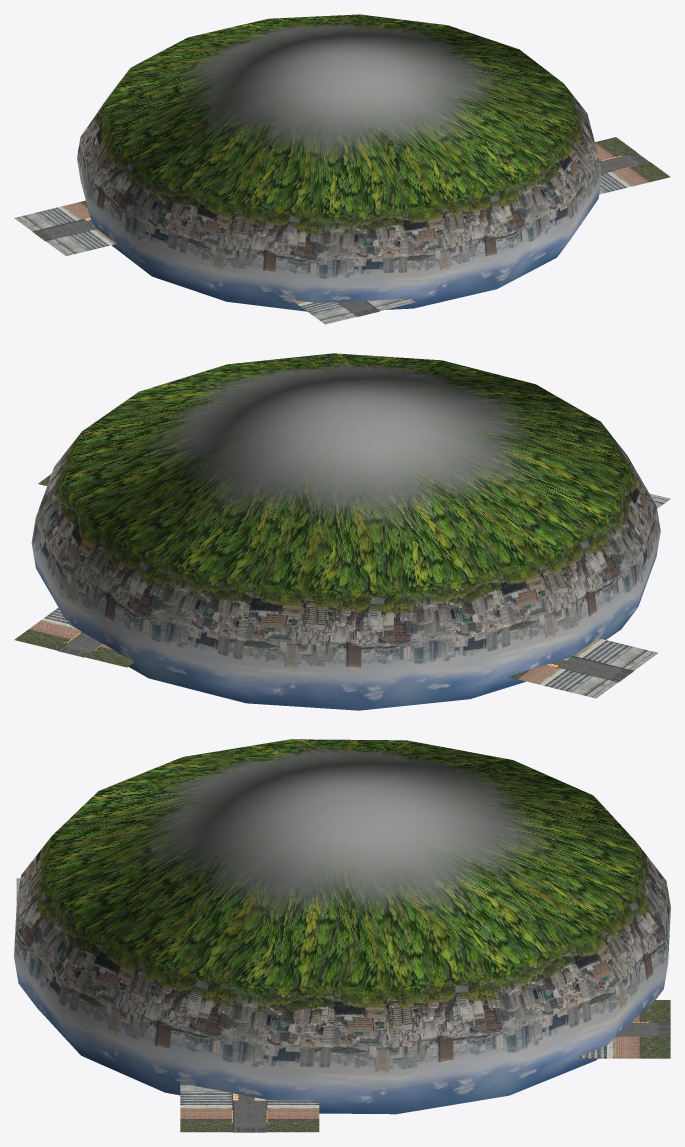
The model's file is Basketball_Court.glb.
The picture shows the model from 3 angles, top to bottom: view 1: azimuth 30°, elevation 25°; view 2: azimuth 150°, elevation 25°; view 3: azimuth 270°, elevation 25°; orthographic projection. The views are drawn at different scales.
Parts seen in each view (by area): view 1: Basketball_Court; view 2: Basketball_Court; view 3: Basketball_Court.
Boxes of the visible parts, bbox=[...] form: Basketball_Court: bbox=[14, 14, 670, 324]; Basketball_Court: bbox=[14, 353, 670, 710]; Basketball_Court: bbox=[14, 739, 670, 1132].
Size of the model in its own units: 875 by 237 by 736.
Materials: 11 (11 with a texture image).
